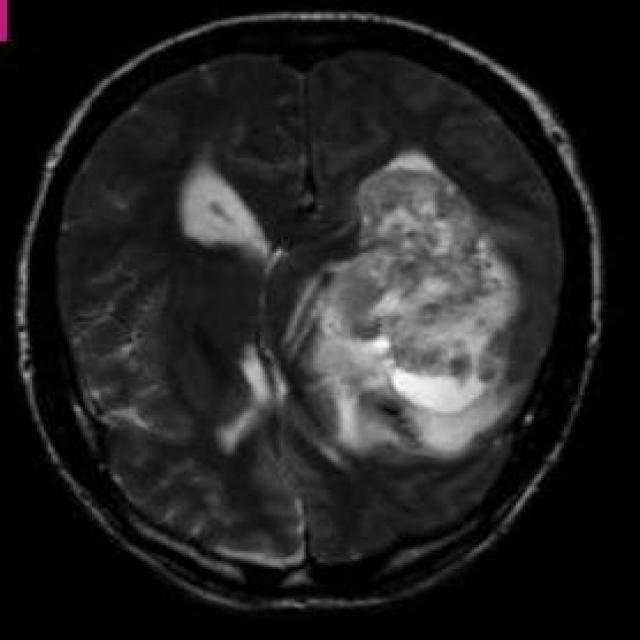Tumor-Cell: (316, 162, 520, 450)
